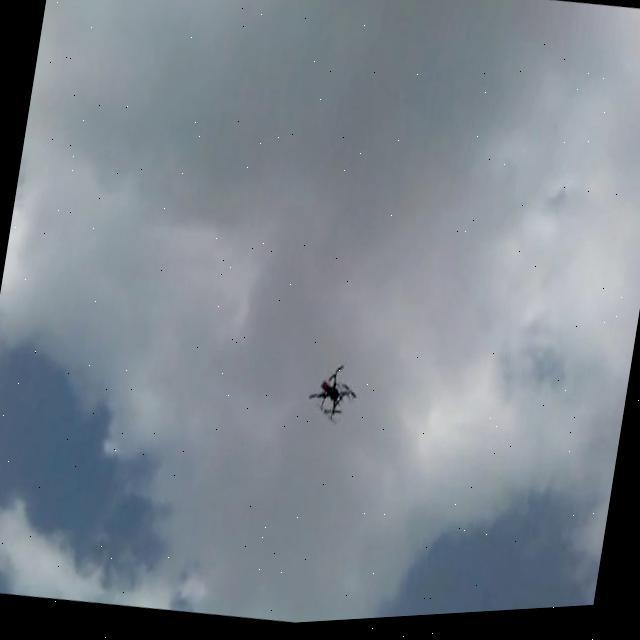drone: (301, 358, 363, 435)
